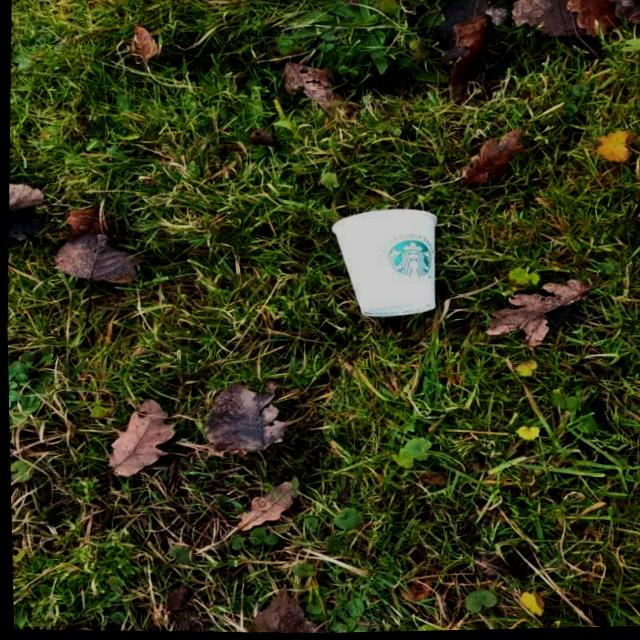Cup: (323, 203, 453, 320)
